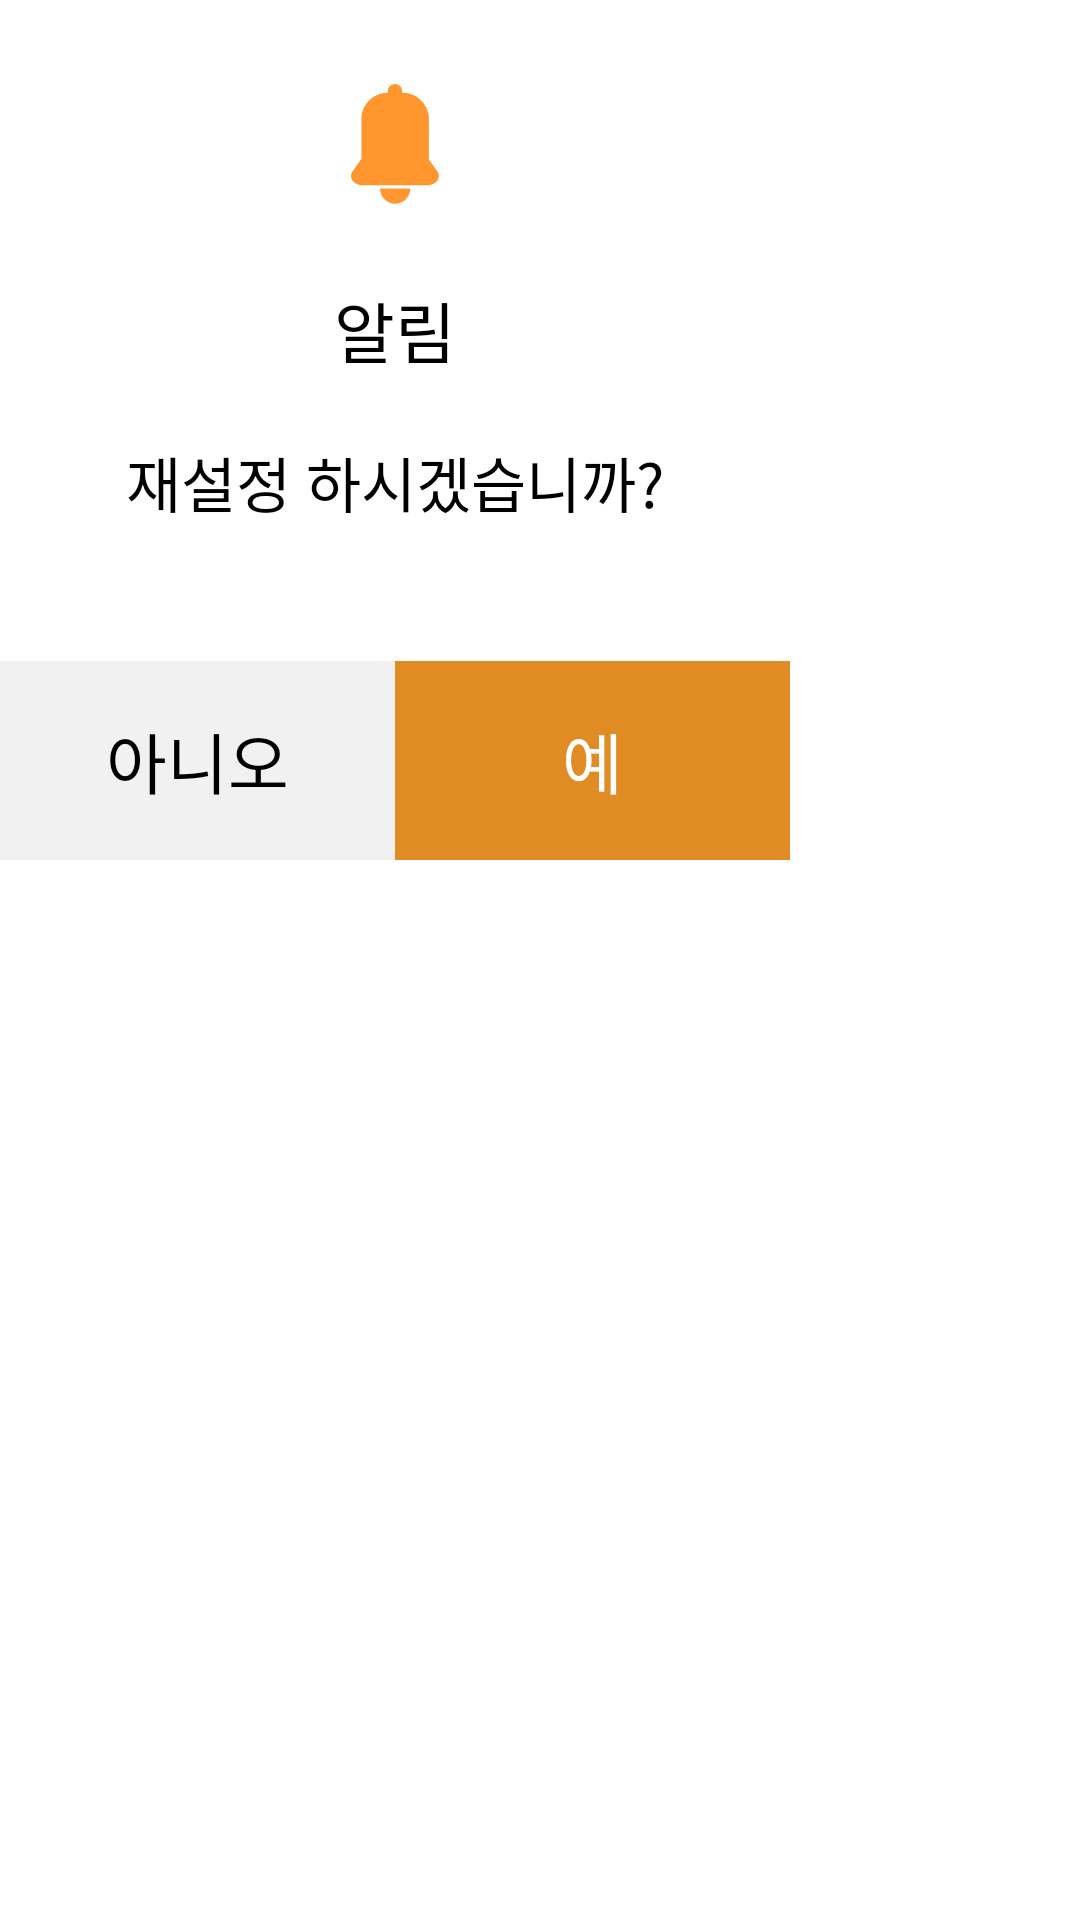

Named icons in this screenshot (1080px x 1920px) and their centers, point (x, y):
bell: point (395, 144)
